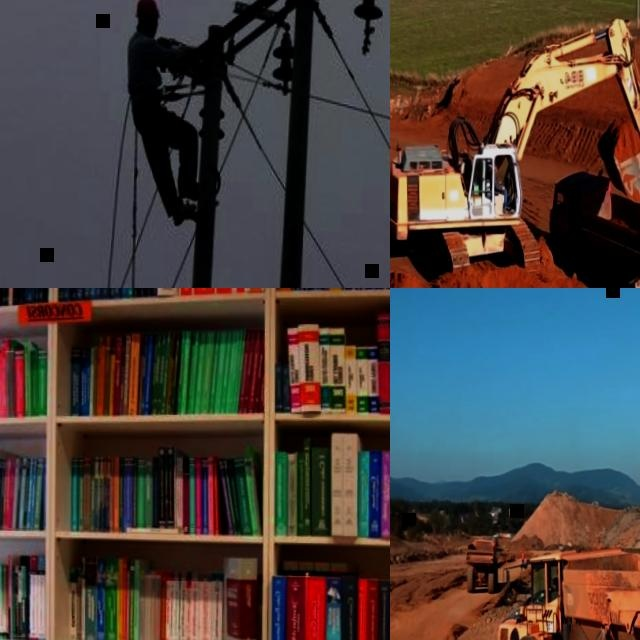Hardhat: (132, 0, 159, 20)
NO-Hardhat: (492, 163, 495, 168)
NO-Safety Vest: (126, 34, 160, 95), (488, 172, 498, 192), (520, 552, 523, 559)
Person: (121, 0, 204, 225), (492, 163, 508, 213), (549, 567, 558, 593), (520, 550, 523, 563)
machinery: (390, 9, 640, 280), (492, 544, 640, 640), (545, 165, 640, 288), (464, 537, 495, 593)
